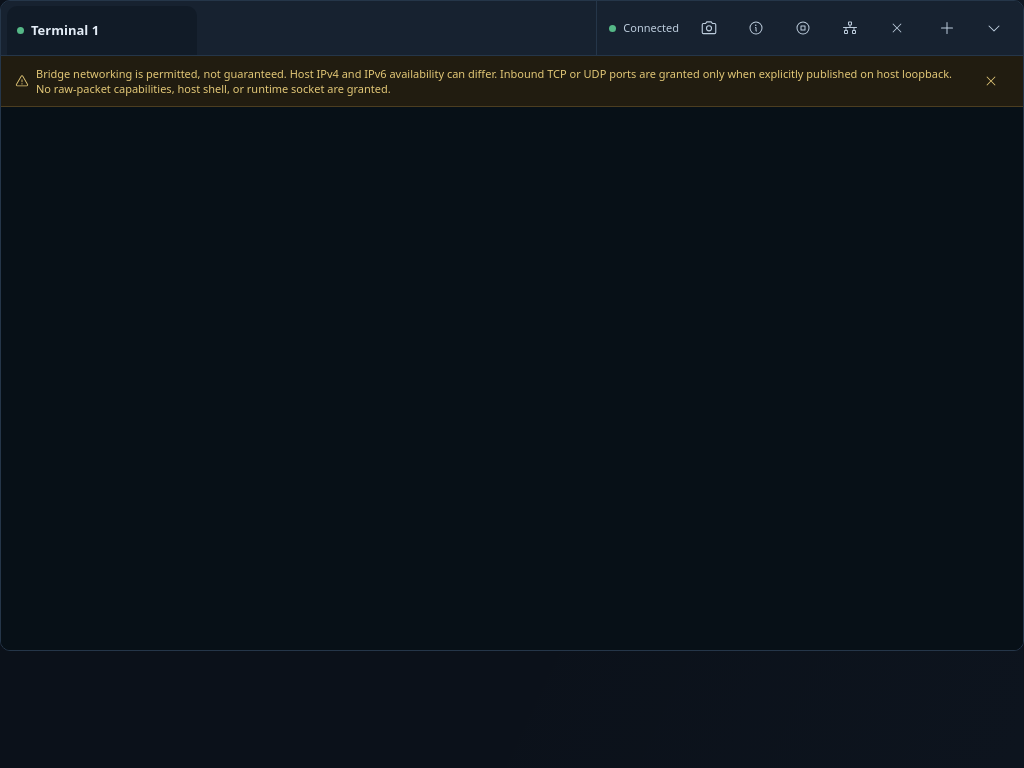
ContainerTerminalPanel › preserves a running tab when close is cancelled or stopping fails
The image size is (1024, 768).
Click the button named "Close Terminal 1": (897, 28) [875,6,919,50]
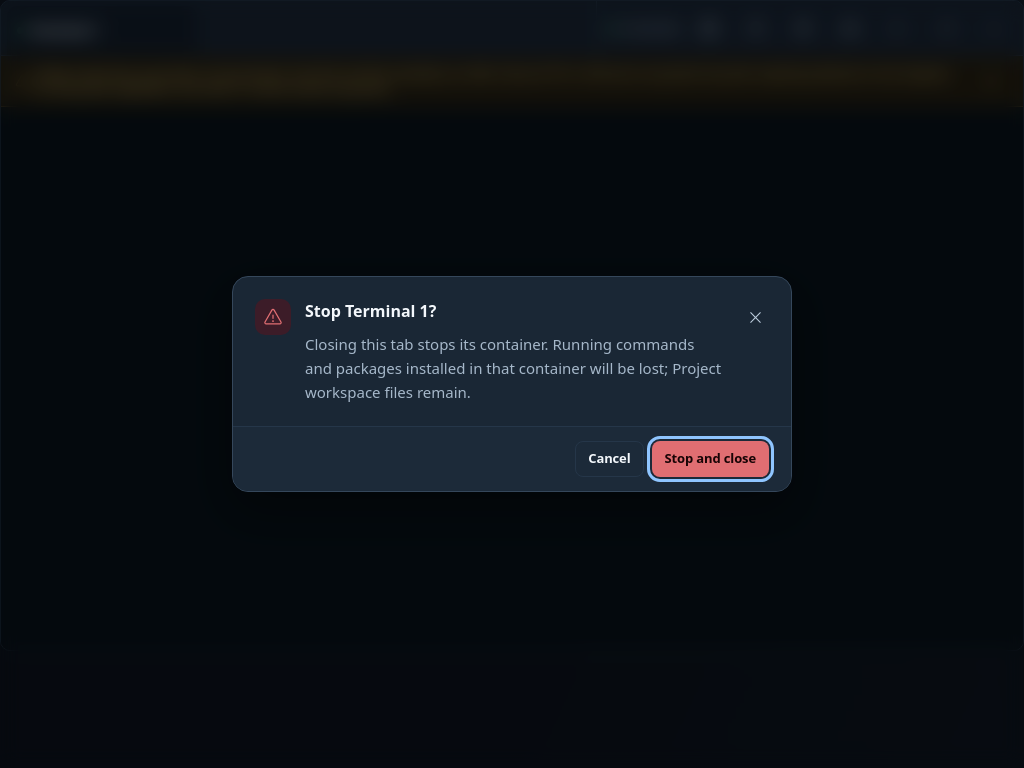
Click the button "Cancel": (609, 459) [575,441,644,477]
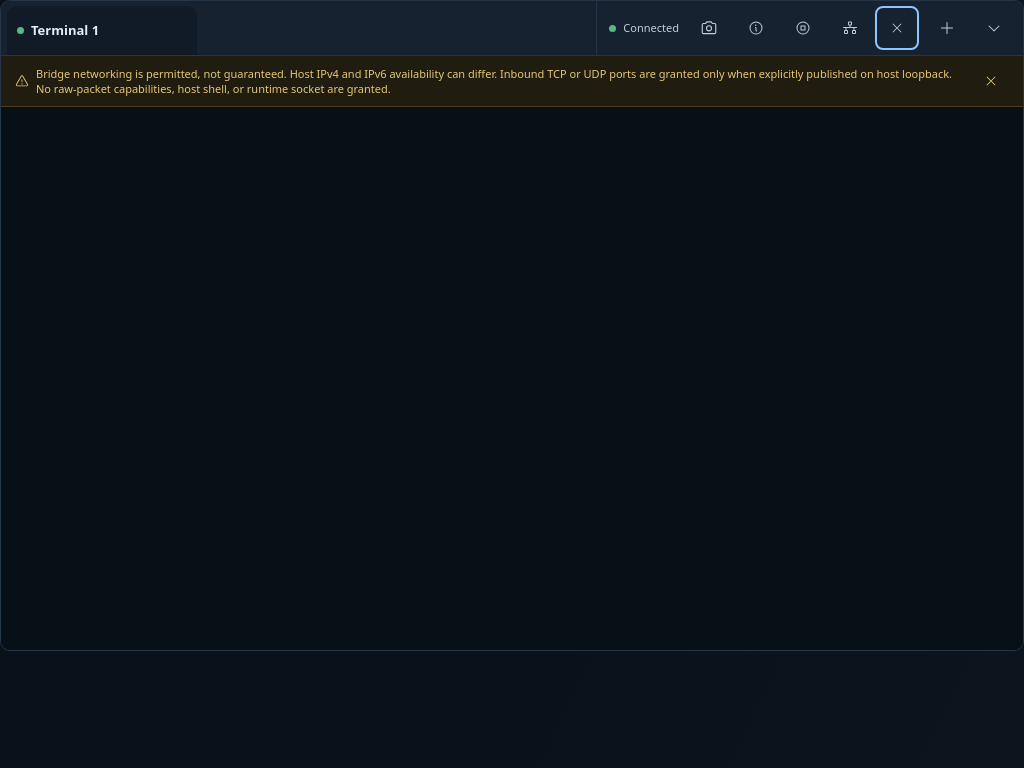
Check: the tab "Terminal 1" is shown, box [7,6,197,55]
Click the button named "Close Terminal 1": (897, 28) [875,6,919,50]
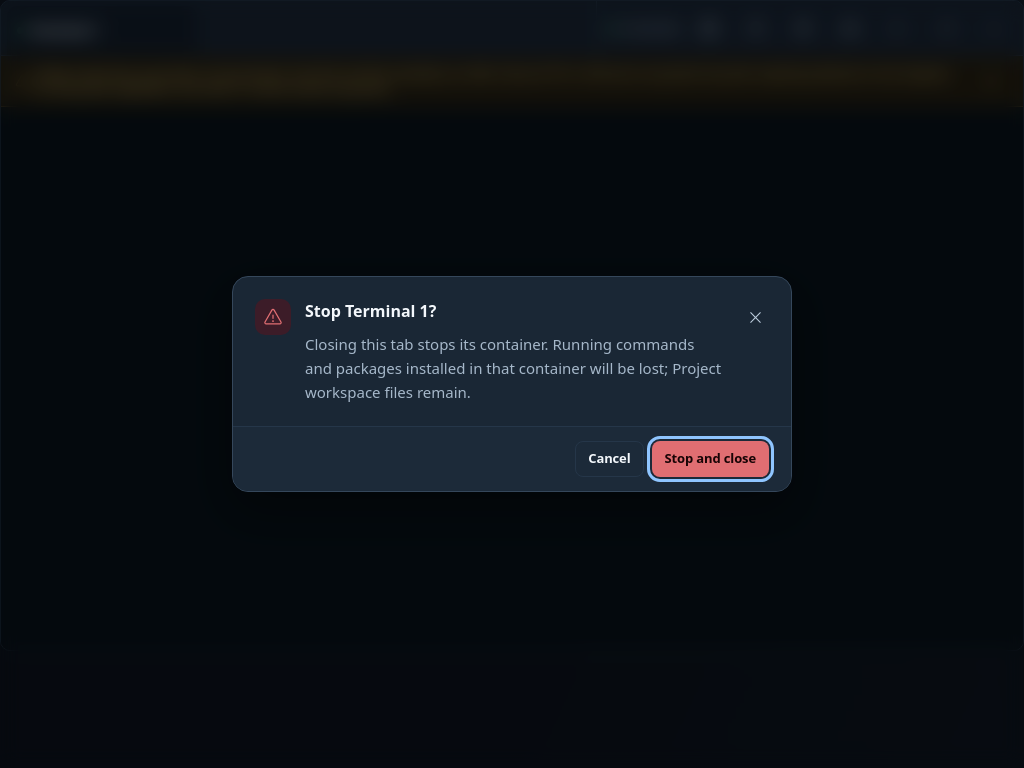
Click the button "Stop and close": (710, 459) [652,441,769,477]
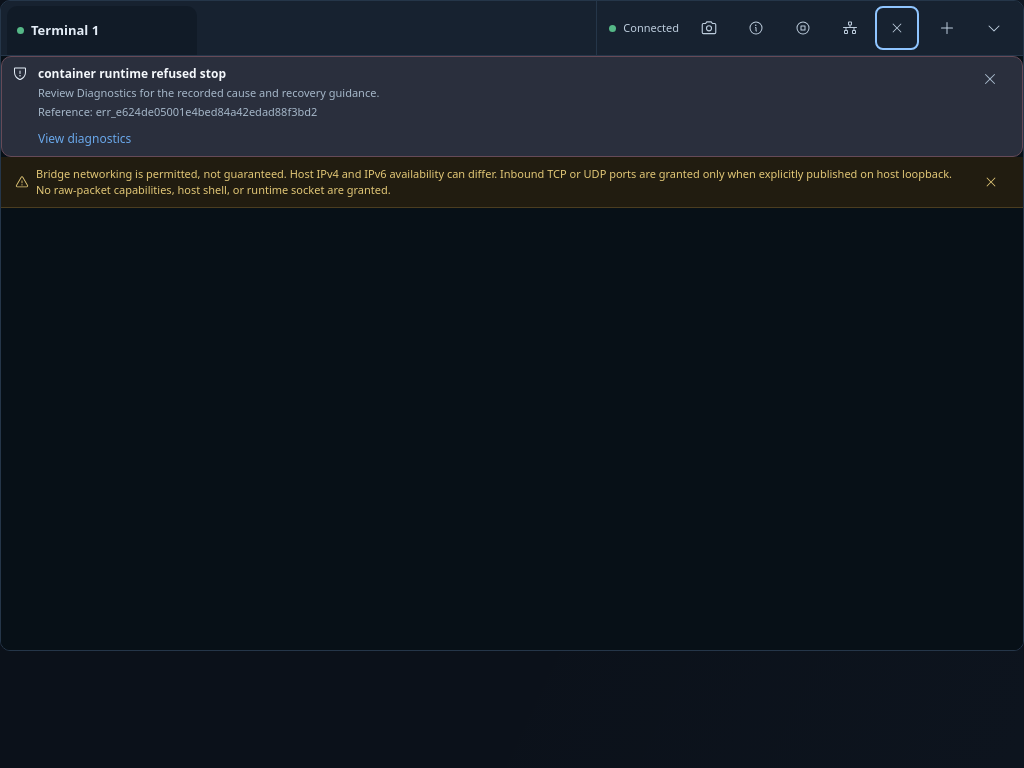
Check: the tab "Terminal 1" is shown, box [7,6,197,55]
Check: the text "container runtime refused stop" is shown, box [38,65,226,82]
